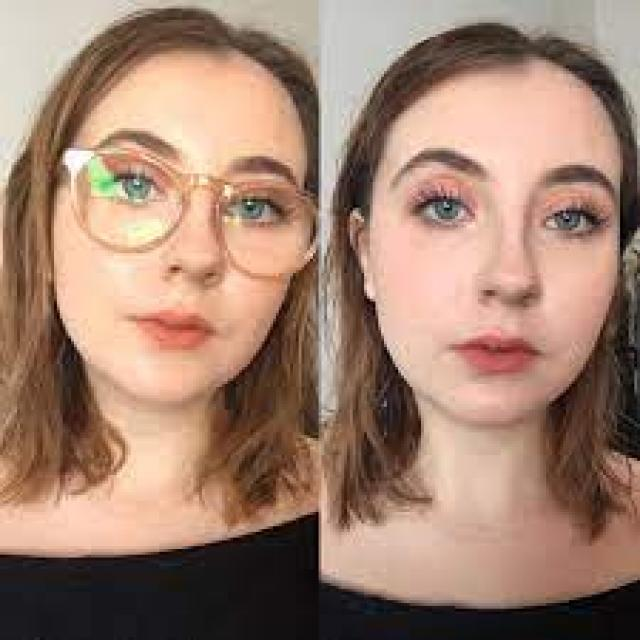Glasses: (59, 141, 322, 285)
